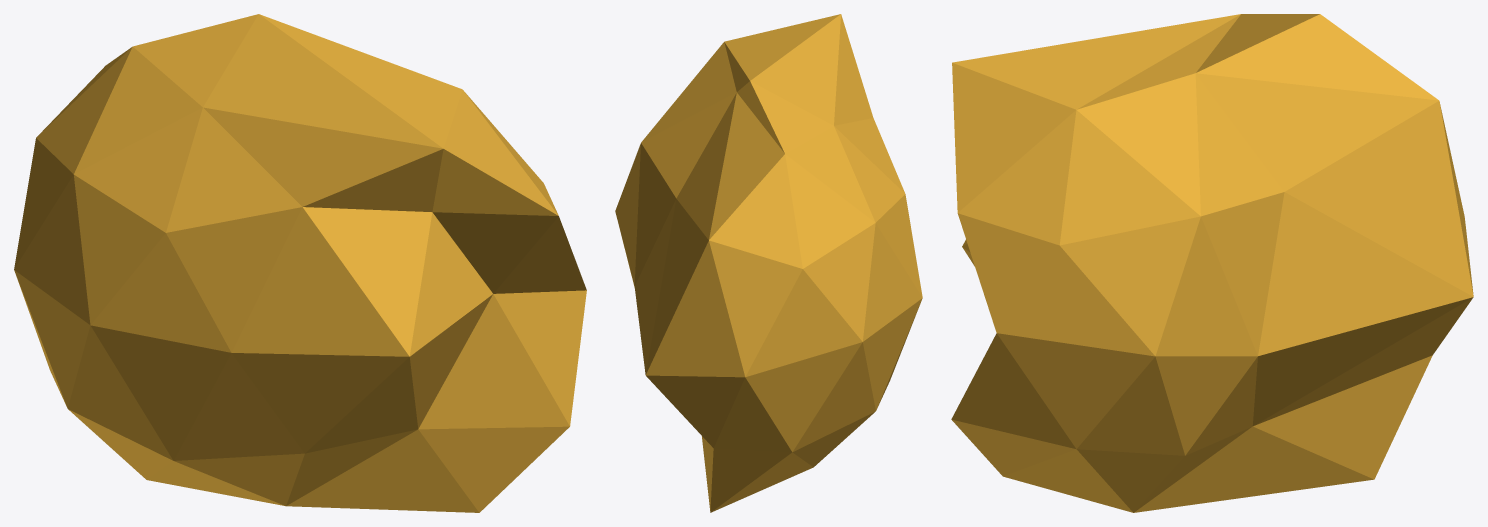
The picture shows the model from 3 angles, left to right: view 1: azimuth 30°, elevation 25°; view 2: azimuth 150°, elevation 25°; view 3: azimuth 270°, elevation 25°; orthographic projection. The views are drawn at different scales.
Parts seen in each view (by area): view 1: Icosphere; view 2: Icosphere; view 3: Icosphere.
Part boxes in pixels (x1,y1,x2,y2): Icosphere: [14, 14, 586, 512]; Icosphere: [615, 14, 922, 512]; Icosphere: [951, 14, 1473, 512].
Size of the model in its own units: 307 by 268 by 308.
